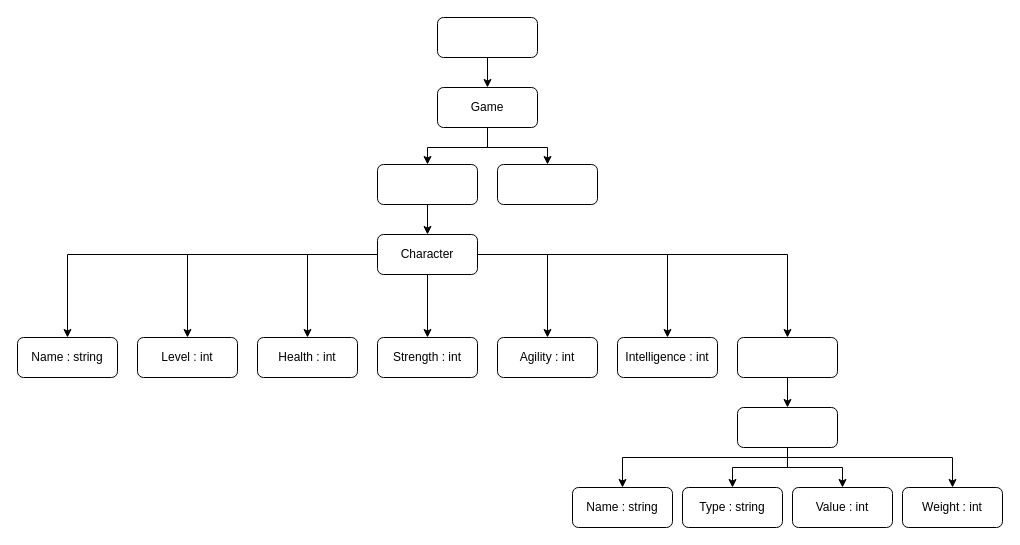
This 1020x545 diagram has some shape labels left out. Here are the shapes that lost their labels. From the top down, the box of each, then its label:
(436, 16, 538, 58): XML File
(376, 164, 478, 204): Characters
(496, 164, 598, 204): Items
(736, 336, 838, 378): Inventory
(736, 406, 838, 448): Item
